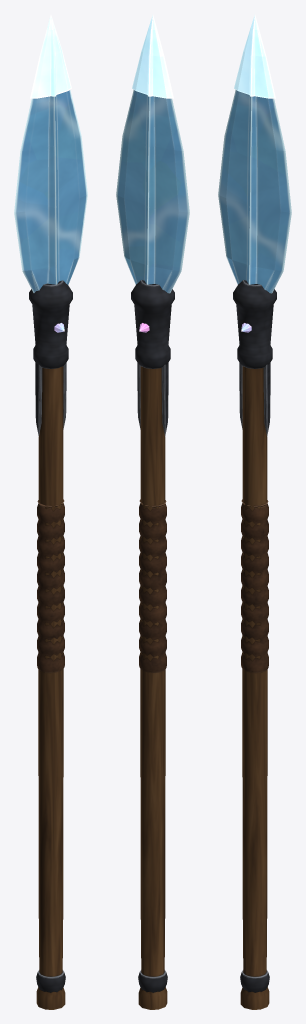
File: crystal-weapon-spear.glb
3 views of the same model, side by side, from view 1: azimuth 30°, elevation 25°; view 2: azimuth 150°, elevation 25°; view 3: azimuth 330°, elevation 25° (orthographic).
Parts seen in each view (by area): view 1: shaft, spearhead, grip-wrap, socket, spear-tip, butt-cap; view 2: shaft, spearhead, grip-wrap, socket, spear-tip, butt-cap; view 3: shaft, spearhead, grip-wrap, socket, spear-tip, butt-cap.
Part boxes in pixels (x1,y1,x2,y2): shaft: (36,366,65,1009); spearhead: (14,90,87,292); grip-wrap: (37,499,64,672); socket: (29,280,72,368); spear-tip: (30,15,71,98); butt-cap: (35,362,66,992); shaft: (138,366,167,1009); spearhead: (116,90,189,293); grip-wrap: (139,499,166,672); socket: (131,280,174,368); spear-tip: (132,15,173,98); butt-cap: (137,362,168,992); shaft: (240,366,269,1009); spearhead: (218,90,291,293); grip-wrap: (241,499,268,672); socket: (233,280,276,368); spear-tip: (234,15,275,98); butt-cap: (239,362,270,992).
Bounding box in the file's own units: 0.154 × 1.98 × 0.1.
7 materials, 7 textured.
